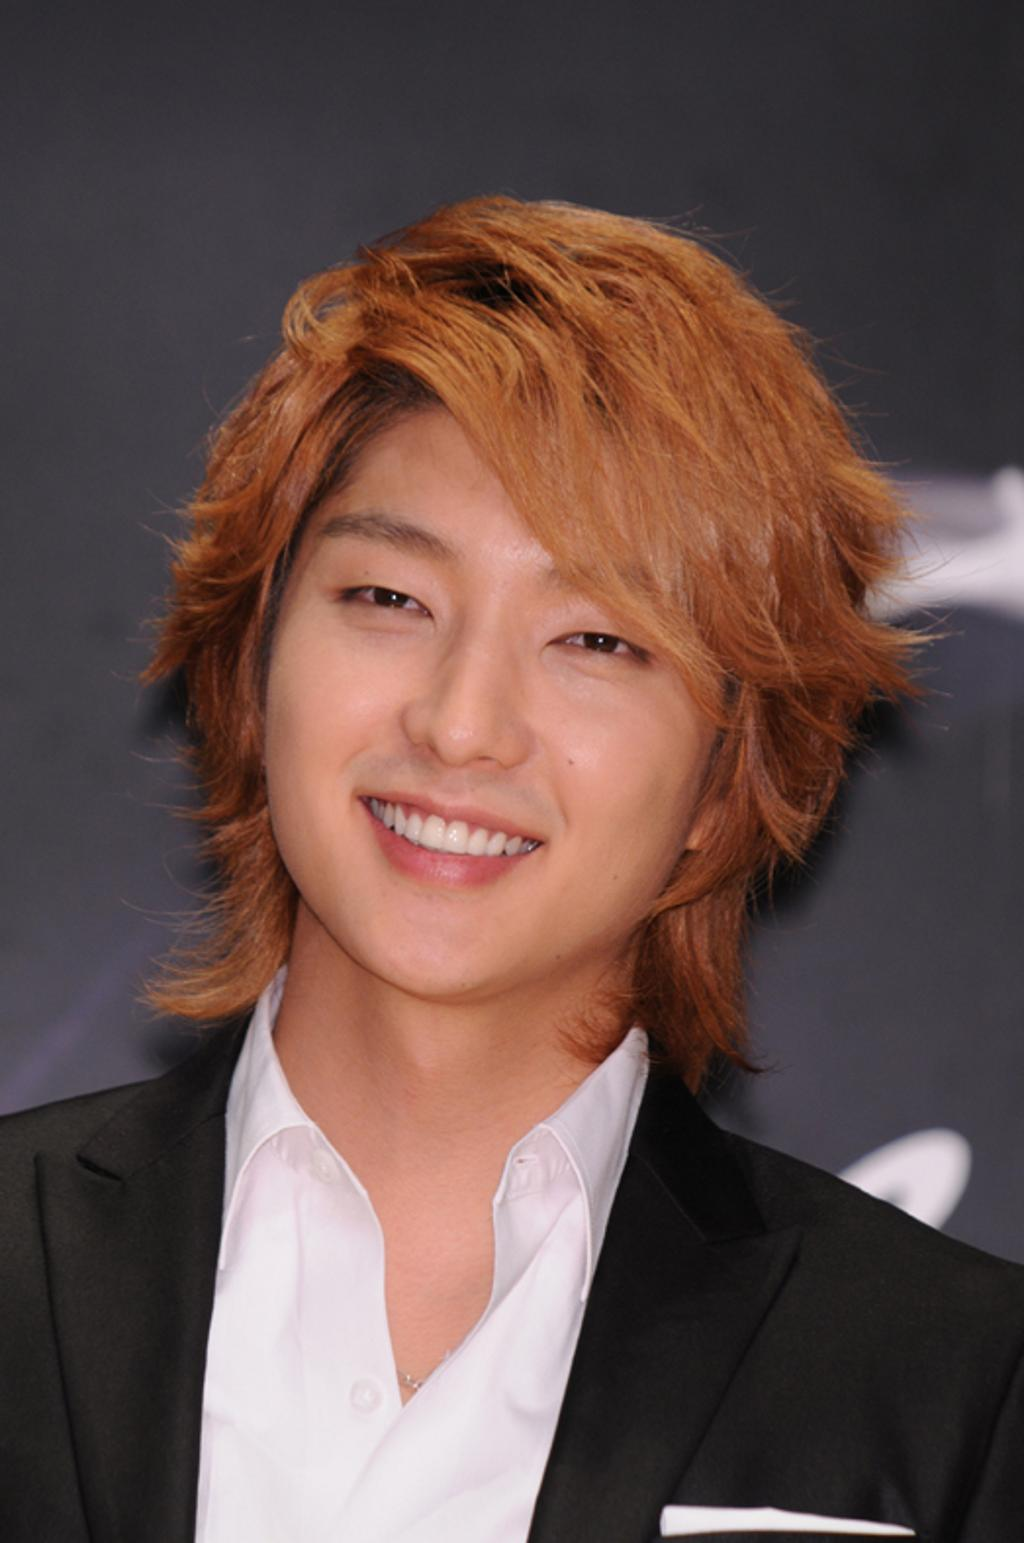face: (268, 361, 717, 990)
